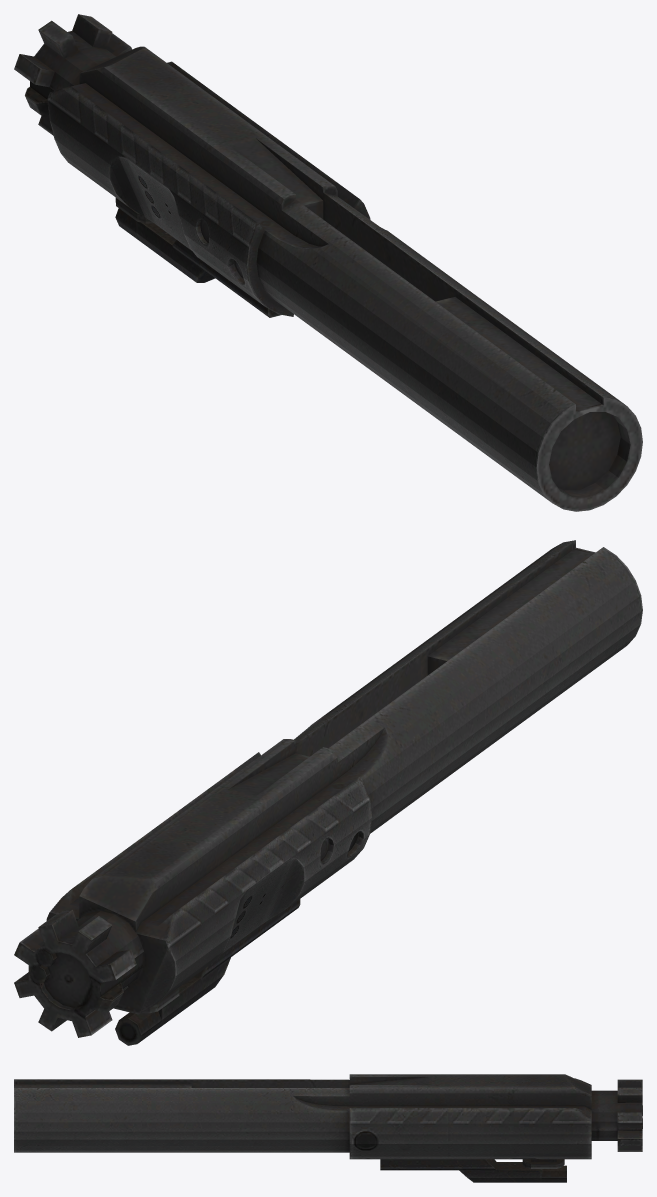
3 renders of one model, top to bottom at view 1: azimuth 30°, elevation 25°; view 2: azimuth 150°, elevation 25°; view 3: azimuth 270°, elevation 25°, orthographic. The views are drawn at different scales.
Visible parts, largest first — view 1: TW_5df8ce05b11454561e39243b_PZ_Import; view 2: TW_5df8ce05b11454561e39243b_PZ_Import; view 3: TW_5df8ce05b11454561e39243b_PZ_Import.
Part boxes in pixels (x1,y1,x2,y2): TW_5df8ce05b11454561e39243b_PZ_Import: [14, 14, 642, 511]; TW_5df8ce05b11454561e39243b_PZ_Import: [14, 540, 642, 1045]; TW_5df8ce05b11454561e39243b_PZ_Import: [14, 1074, 642, 1182].
Bounding box in the file's own units: 0.0166 × 0.1206 × 0.0215.
Materials: 1 (1 with a texture image).
